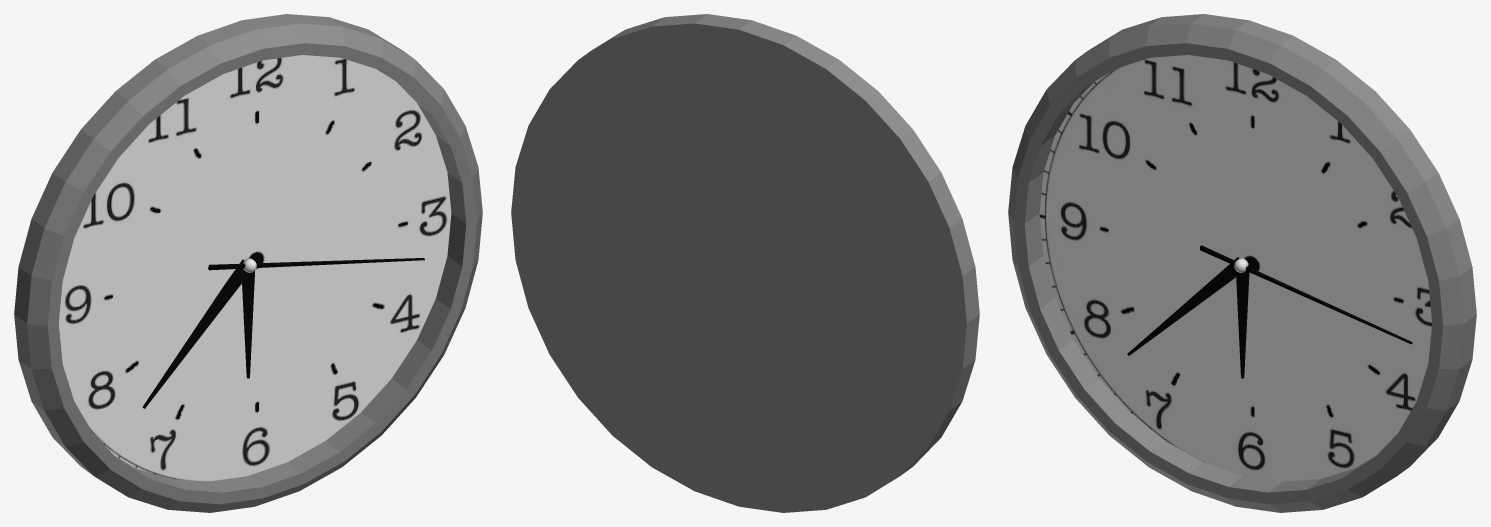
The model's file is clock.glb.
3 views of the same model, side by side, from view 1: azimuth 30°, elevation 25°; view 2: azimuth 150°, elevation 25°; view 3: azimuth 330°, elevation 25° (orthographic).
Visible parts, largest first — view 1: Laikrodis; view 2: Laikrodis; view 3: Laikrodis.
Boxes of the visible parts, x1=… form: Laikrodis: x1=14, y1=14, x2=482, y2=512; Laikrodis: x1=511, y1=14, x2=979, y2=512; Laikrodis: x1=1008, y1=14, x2=1476, y2=512.
Size of the model in its own units: 0.3289 by 0.3289 by 0.0256.
Materials: 4 (1 with a texture image).
